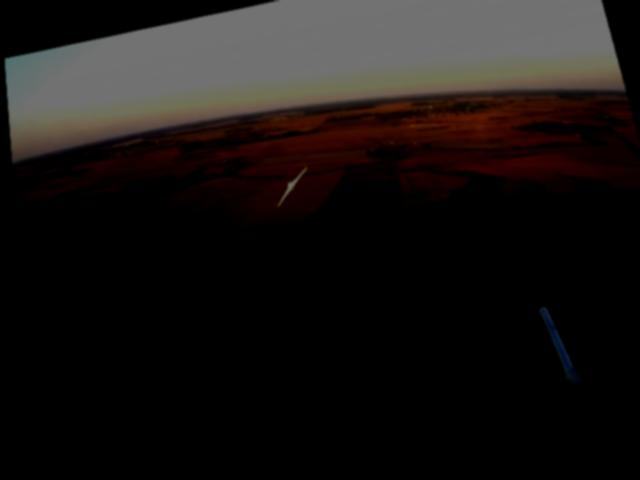plane: (263, 165, 312, 207)
